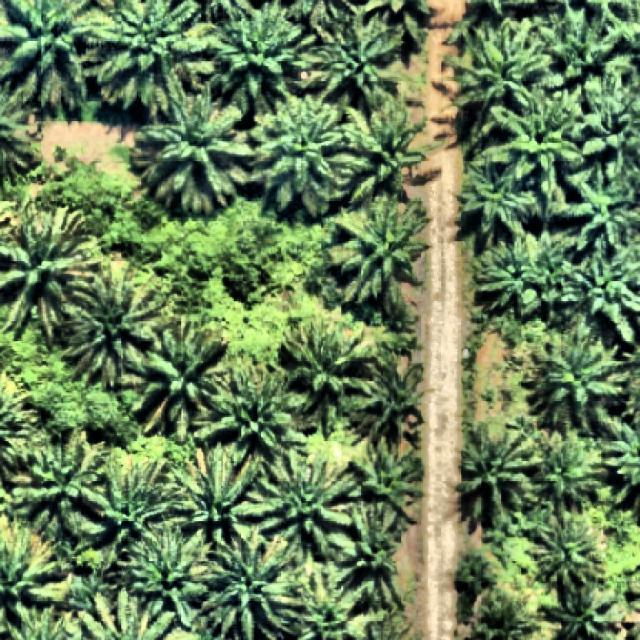Kelapa_Sawit: (130, 92, 256, 216), (56, 260, 167, 392), (242, 444, 358, 570), (443, 18, 554, 148), (249, 91, 357, 220), (192, 356, 308, 470), (130, 312, 230, 442), (210, 1, 318, 118), (192, 531, 306, 640), (164, 439, 276, 547), (280, 320, 378, 440), (328, 191, 432, 304), (522, 330, 630, 436), (489, 80, 583, 198), (344, 96, 446, 204), (309, 3, 408, 112), (15, 430, 111, 542), (119, 520, 215, 631), (89, 456, 169, 572), (333, 494, 407, 614), (455, 422, 540, 524), (345, 432, 427, 525), (554, 160, 636, 252), (362, 350, 435, 446), (453, 160, 536, 240), (561, 244, 640, 327), (531, 506, 607, 592), (553, 0, 629, 83), (532, 428, 608, 506), (473, 234, 541, 314)
